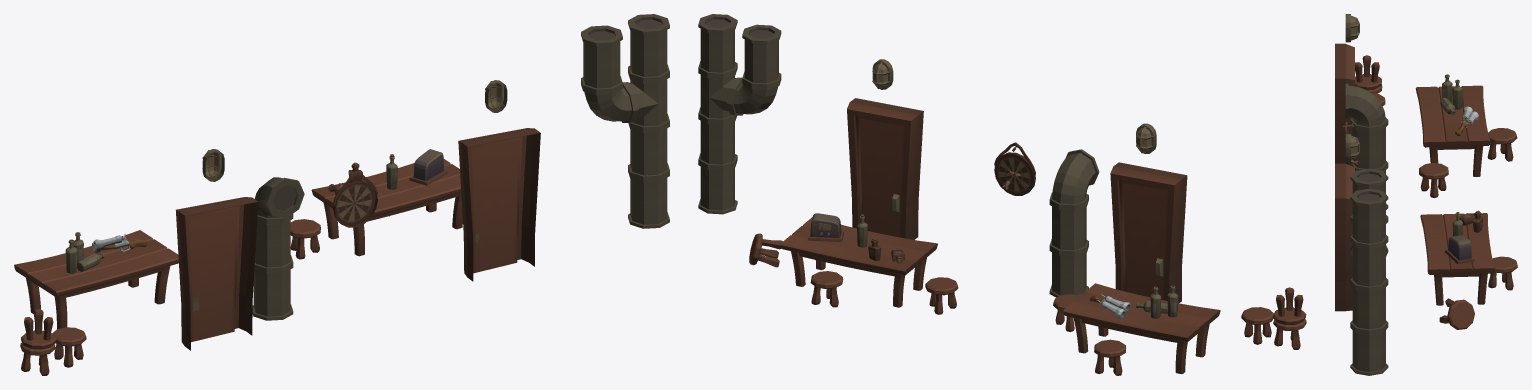
File: SM_Setdressing_Level1_Small_Hangoutspot.fbx
3 views of the same model, side by side, from view 1: azimuth 30°, elevation 25°; view 2: azimuth 150°, elevation 25°; view 3: azimuth 270°, elevation 25° (orthographic). The views are drawn at different scales.
Parts seen in each view (by area): view 1: SM_Setdressing_Level1_Small_Hangoutspot; view 2: SM_Setdressing_Level1_Small_Hangoutspot; view 3: SM_Setdressing_Level1_Small_Hangoutspot.
Part boxes in pixels (x1,y1,x2,y2): SM_Setdressing_Level1_Small_Hangoutspot: (14,14,669,375); SM_Setdressing_Level1_Small_Hangoutspot: (698,14,1306,375); SM_Setdressing_Level1_Small_Hangoutspot: (1335,14,1517,375).
Bounding box in the file's own units: 1373 × 387 × 401.
